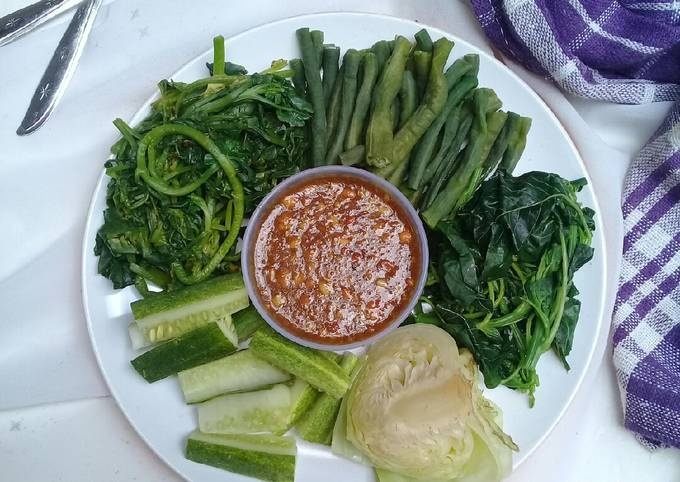pecel: (97, 43, 568, 463)
